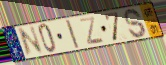0: (39, 22, 59, 54)
7: (103, 11, 121, 43)
I: (65, 19, 81, 51)
N: (17, 24, 45, 58)
S: (123, 7, 147, 39)
Z: (78, 15, 106, 46)
